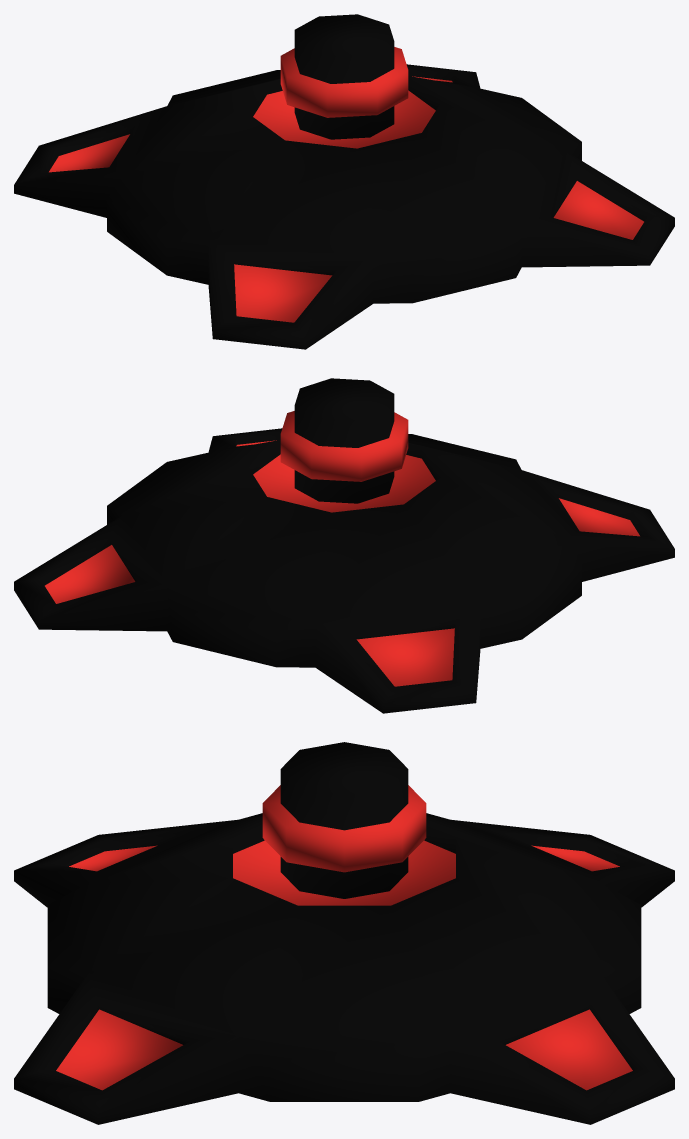
File: turret_base.glb
The picture shows the model from 3 angles, top to bottom: view 1: azimuth 30°, elevation 25°; view 2: azimuth 150°, elevation 25°; view 3: azimuth 270°, elevation 25°; orthographic projection. The views are drawn at different scales.
Parts seen in each view (by area): view 1: Base; view 2: Base; view 3: Base.
Part boxes in pixels (x1,y1,x2,y2): Base: (14,14,674,349); Base: (14,378,674,713); Base: (14,742,674,1124).
Bounding box in the file's own units: 2.39 × 0.8624 × 2.39.
